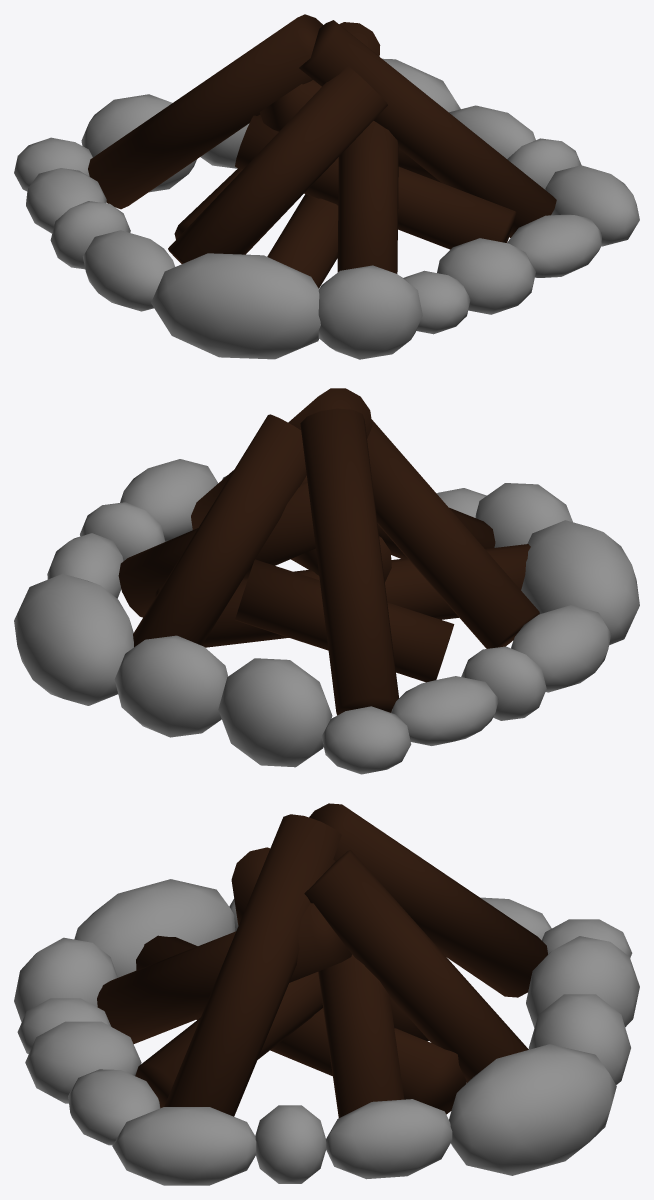
File: campfire.glb
The picture shows the model from 3 angles, top to bottom: view 1: azimuth 30°, elevation 25°; view 2: azimuth 150°, elevation 25°; view 3: azimuth 270°, elevation 25°; orthographic projection. The views are drawn at different scales.
Visible parts, largest first — view 1: Cylinder.006, Cylinder.005, Icosphere.013, Cylinder.008, Cylinder.004, Cylinder.001, Icosphere.014, Icosphere.012, Icosphere.001, Icosphere.003, Icosphere.002, Cylinder (+12 smaller); view 2: Cylinder.006, Cylinder.007, Cylinder.005, Icosphere.006, Icosphere.008, Icosphere.013, Cylinder.002, Icosphere.007, Cylinder.003, Icosphere.012, Cylinder, Icosphere.010 (+10 smaller); view 3: Cylinder.008, Cylinder.007, Icosphere.006, Cylinder.006, Cylinder.004, Cylinder.003, Icosphere.003, Icosphere.013, Icosphere.005, Cylinder, Icosphere.008, Icosphere.001 (+10 smaller).
Boxes of the visible parts, box(x1,y1,x2,y2) form: Cylinder.006: box(88, 14, 323, 209); Cylinder.005: box(168, 66, 387, 263); Icosphere.013: box(151, 253, 320, 359); Cylinder.008: box(299, 20, 556, 237); Cylinder.004: box(337, 121, 398, 273); Cylinder.001: box(235, 114, 516, 249); Icosphere.014: box(318, 265, 422, 359); Icosphere.012: box(83, 230, 175, 311); Icosphere.001: box(437, 238, 535, 314); Icosphere.003: box(545, 165, 639, 246); Icosphere.002: box(507, 214, 601, 277); Cylinder: box(267, 194, 338, 288); Cylinder.006: box(300, 408, 398, 715); Cylinder.007: box(133, 414, 306, 647); Cylinder.005: box(367, 419, 539, 648); Icosphere.006: box(14, 573, 133, 705); Icosphere.008: box(218, 658, 332, 767); Icosphere.013: box(521, 520, 639, 645); Cylinder.002: box(235, 559, 454, 682); Icosphere.007: box(114, 635, 228, 737); Cylinder.003: box(118, 481, 376, 617); Icosphere.012: box(511, 605, 611, 692); Cylinder: box(155, 544, 530, 647); Icosphere.010: box(391, 676, 498, 745); Cylinder.008: box(164, 814, 341, 1116); Cylinder.007: box(304, 850, 528, 1082); Icosphere.006: box(449, 1044, 616, 1175); Cylinder.006: box(309, 803, 547, 997); Cylinder.004: box(97, 903, 351, 1043); Cylinder.003: box(318, 954, 404, 1117); Icosphere.003: box(112, 1107, 256, 1185); Icosphere.013: box(74, 879, 235, 977); Icosphere.005: box(326, 1099, 452, 1179); Cylinder: box(136, 935, 466, 1114); Icosphere.008: box(526, 936, 639, 1027); Icosphere.001: box(25, 1021, 141, 1103).
Bounding box in the file's own units: 18.29 × 8.79 × 18.23.
